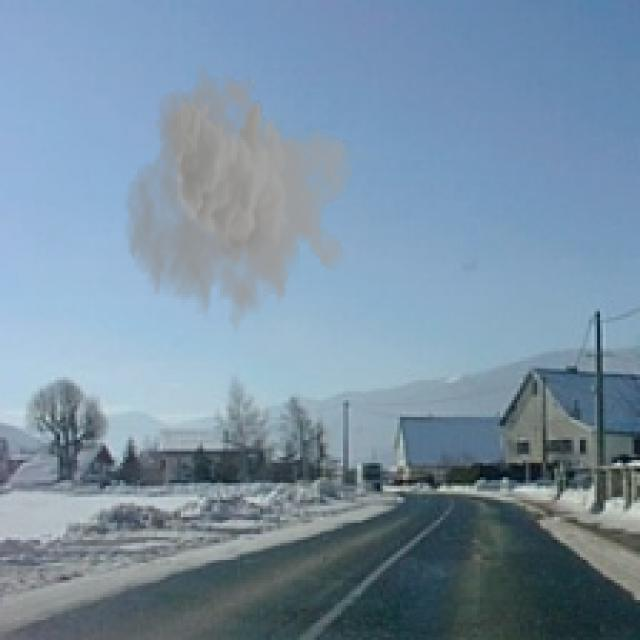smoke: (123, 63, 354, 343)
